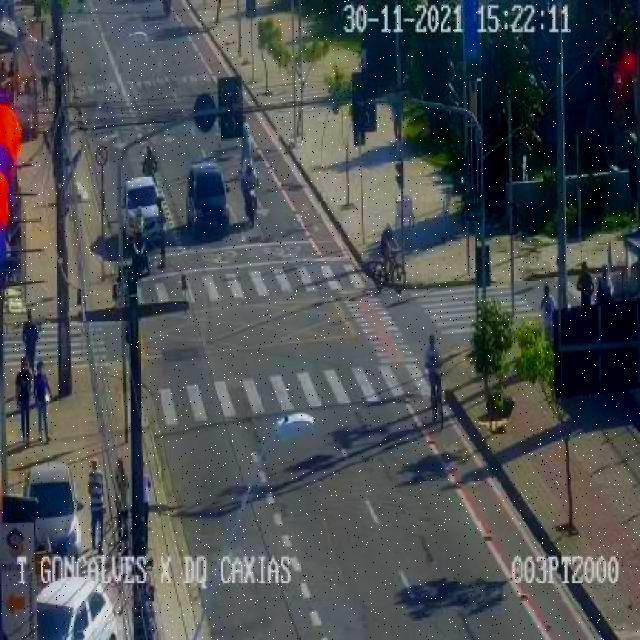Car: (23, 462, 85, 557), (35, 575, 119, 640), (186, 162, 232, 240), (120, 176, 165, 244)
Cycle: (423, 361, 447, 433), (372, 247, 407, 293), (239, 178, 262, 227)
